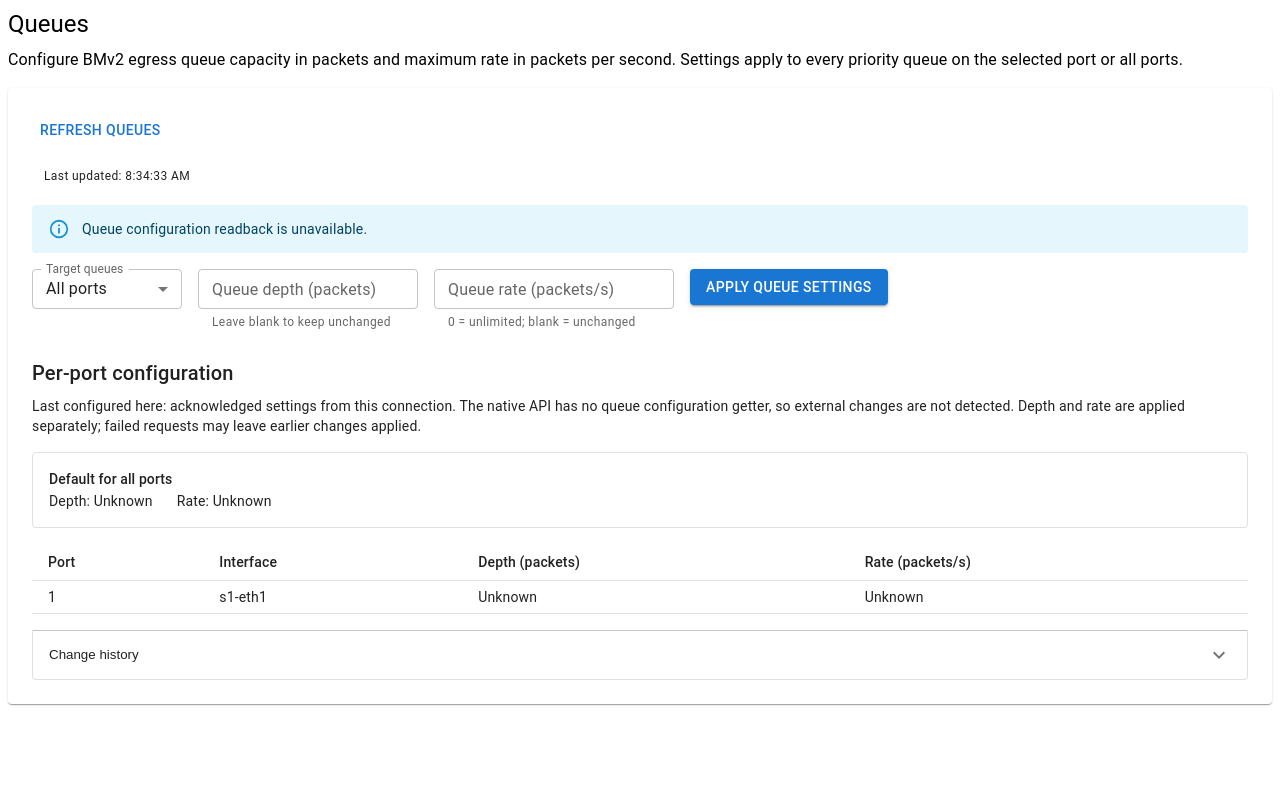
it: queue controls › applies all-port depth and unlimited rate and labels results as last applied
Expected: the text "Queue configuration readback is unavailable." is shown, [82,221,367,237]
Type "128" into the field labelled "Queue depth (packets)".
click(308, 289); type("128")  # box [198,269,418,309]
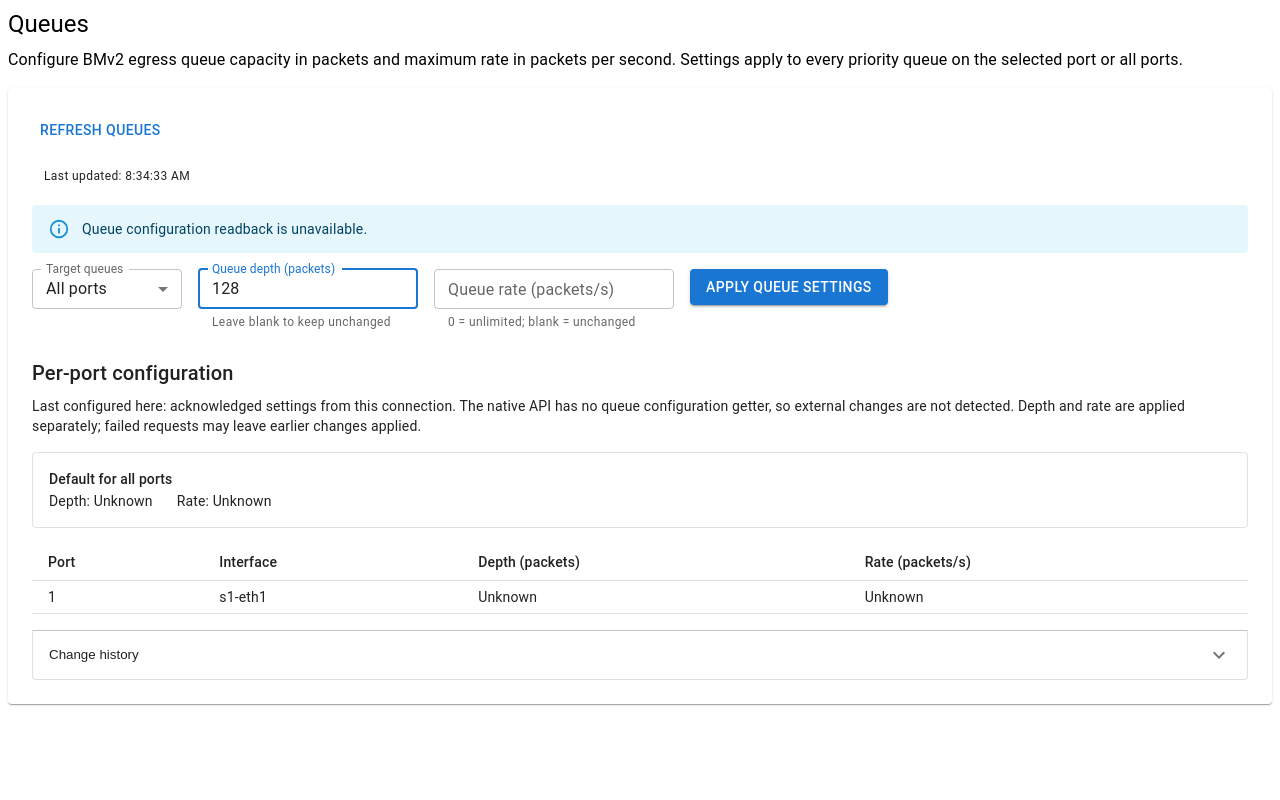
Type "0" into the field labelled "Queue rate (packets/s)".
click(554, 289); type("0")  # box [434,269,674,309]
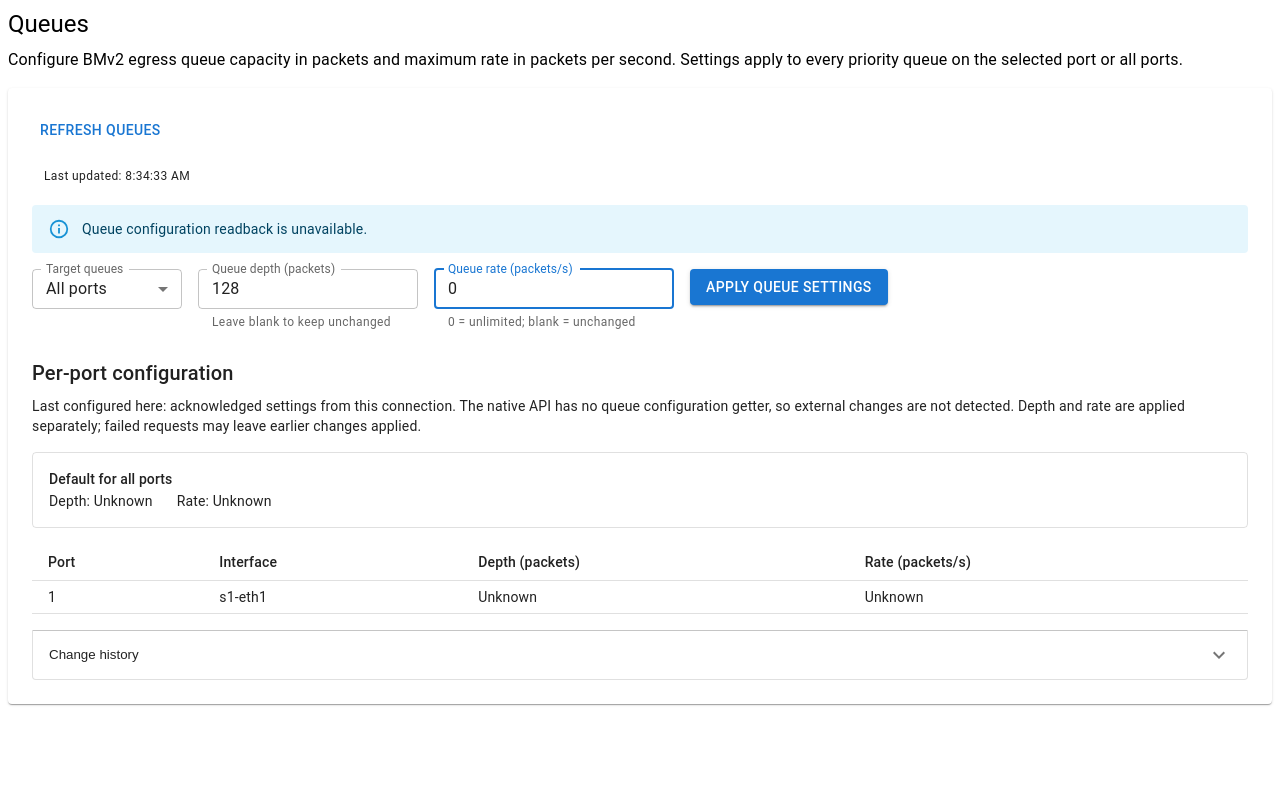
Click the button "Apply queue settings".
click(789, 287)  # box [690,269,888,305]
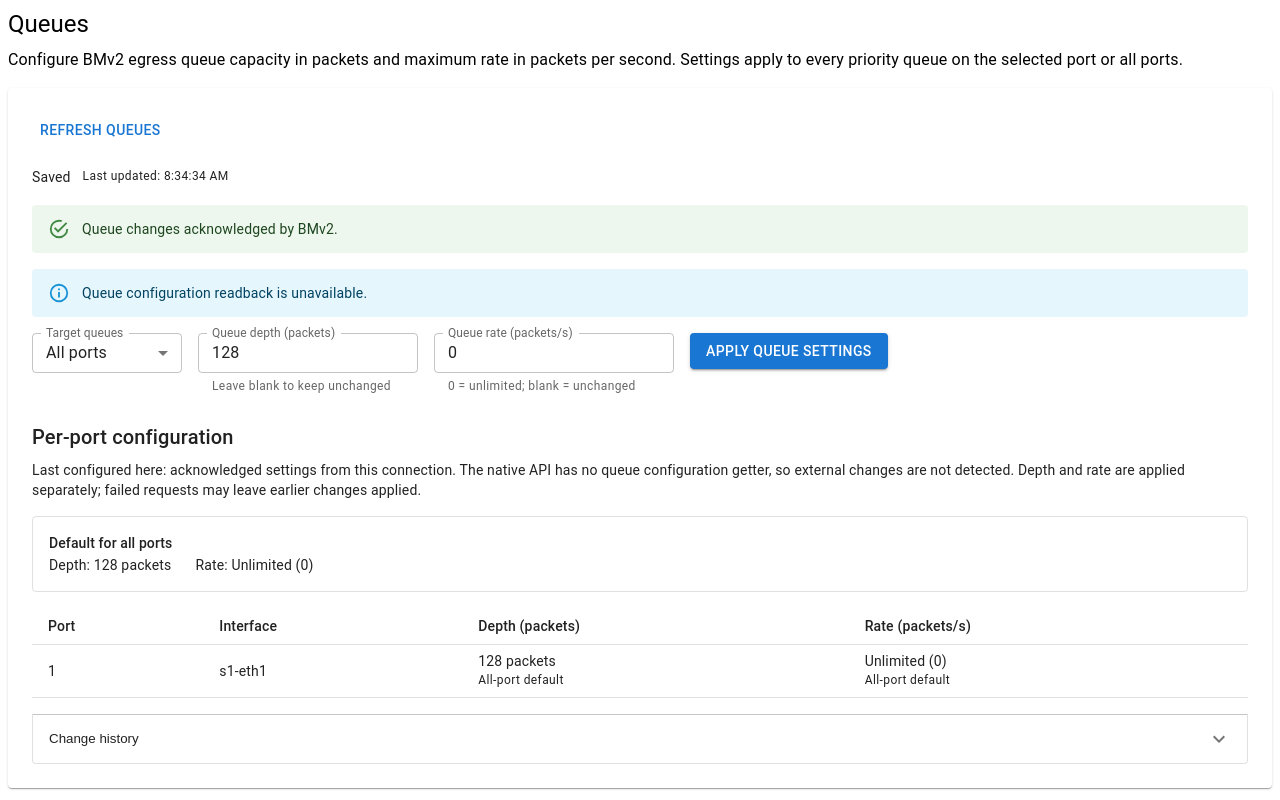
Now the text "Queue changes acknowledged by BMv2." is shown, box [82,221,338,237]
Now the table named "Per-port queue configuration" shows "128 packets", box [478,653,556,669]
Click the button "Change history".
click(94, 739)  # box [33,715,1247,763]
(page scrolled)
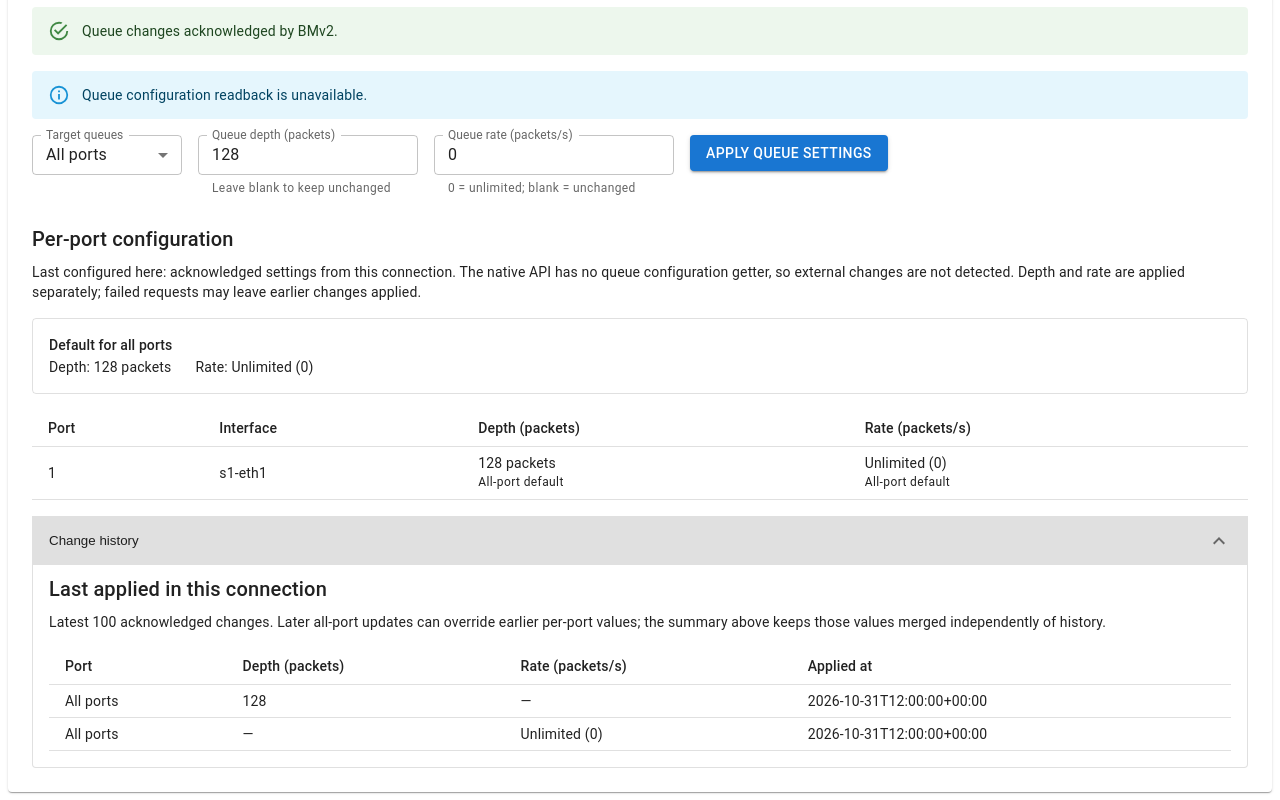
Now the table named "Queue changes" shows "Unlimited (0)", box [520,726,603,742]
Now the heading "Last applied in this connection" is shown, box [49,577,327,601]
